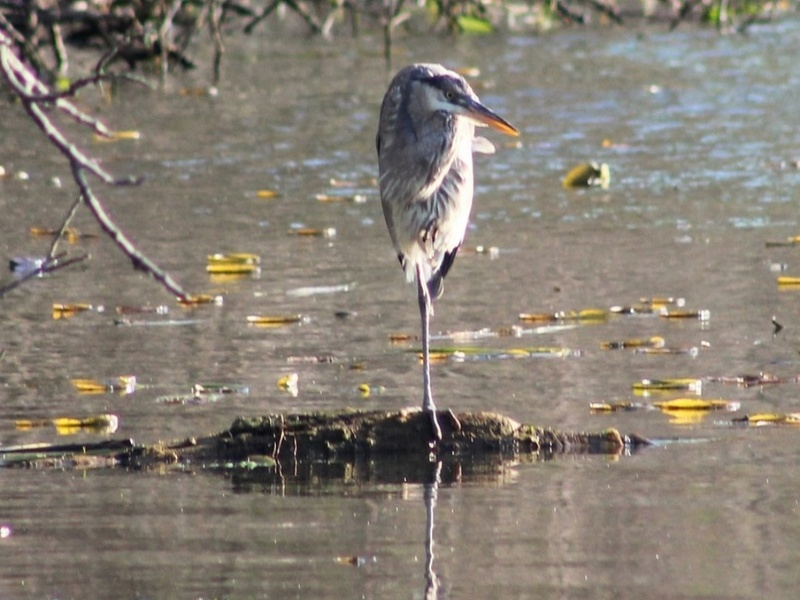heron: (374, 57, 521, 440)
